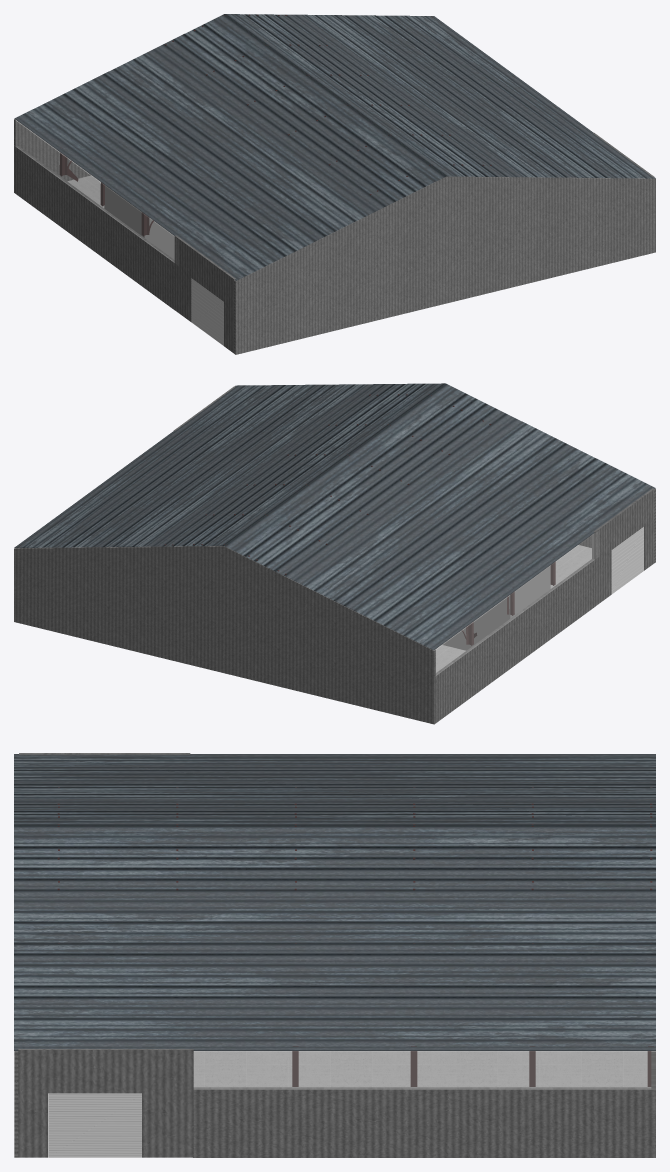
The model's file is T_bodega.fbx.
3 renders of one model, top to bottom at view 1: azimuth 30°, elevation 25°; view 2: azimuth 150°, elevation 25°; view 3: azimuth 270°, elevation 25°, orthographic. The views are drawn at different scales.
Visible parts, largest first — view 1: pPlane8, polySurface11, pPlane7, polySurface35, polySurface38, polySurface21, pCube9, pCube11, polySurface40, polySurface41, polySurface37; view 2: pPlane8, polySurface40, pPlane7, polySurface35, polySurface38, polySurface21, pCube9, pCube11, polySurface37, polySurface41; view 3: pPlane7, pPlane8, polySurface36, polySurface39, polySurface37, polySurface22, pCube15, polySurface41.
Part boxes in pixels (x1,y1,x2,y2): pPlane8: (14, 14, 445, 280); polySurface11: (234, 176, 655, 354); pPlane7: (224, 14, 655, 178); polySurface35: (14, 145, 174, 309); polySurface38: (16, 120, 178, 265); polySurface21: (174, 235, 235, 353); pCube9: (104, 185, 174, 259); pCube11: (191, 278, 223, 345); polySurface40: (14, 119, 90, 181); polySurface41: (59, 14, 555, 236); polySurface37: (67, 175, 221, 344); pPlane8: (224, 383, 655, 650); polySurface40: (14, 546, 435, 724); pPlane7: (14, 383, 445, 547); polySurface35: (434, 559, 595, 724); polySurface38: (435, 531, 598, 675); polySurface21: (592, 488, 654, 606); pCube9: (442, 565, 550, 650); pCube11: (611, 527, 643, 593); polySurface37: (435, 545, 643, 672); polySurface41: (19, 394, 555, 645); pPlane7: (14, 825, 655, 1050); pPlane8: (14, 754, 655, 825); polySurface36: (193, 1087, 655, 1157); polySurface39: (194, 1051, 655, 1089); polySurface37: (48, 1051, 650, 1157); polySurface22: (18, 1049, 193, 1157); pCube15: (49, 1093, 141, 1157); polySurface41: (57, 787, 653, 1086).
Bounding box in the file's own units: 29.65 × 8.59 × 27.09.
Materials: 10 (5 with a texture image).
